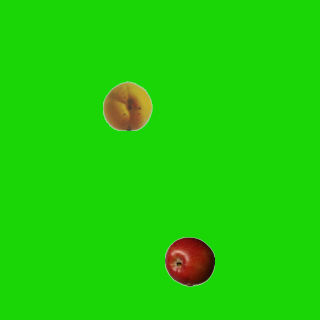Apple Braeburn: (164, 236, 214, 286)
Peach 2: (102, 80, 152, 130)
